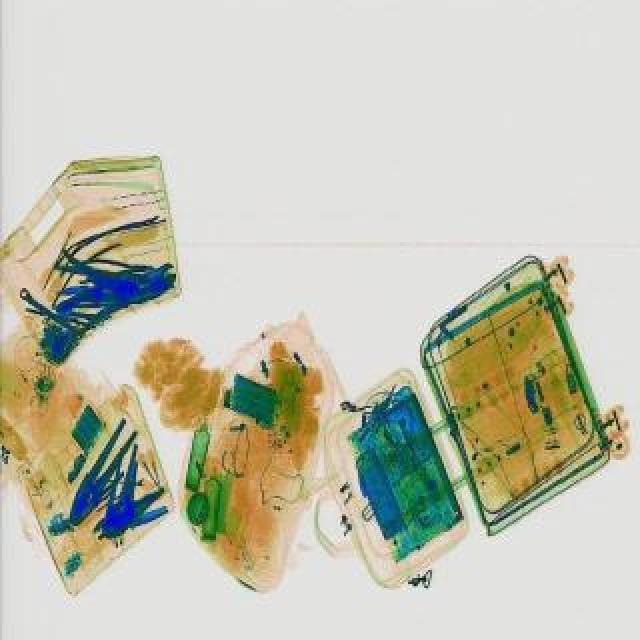scissors: (14, 284, 86, 340)
